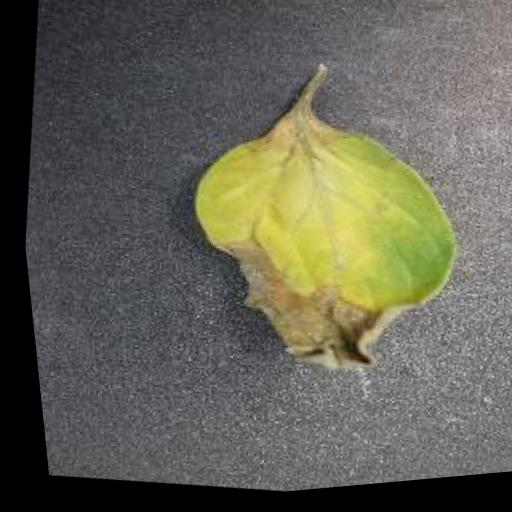Late Blight: (152, 96, 475, 411)
